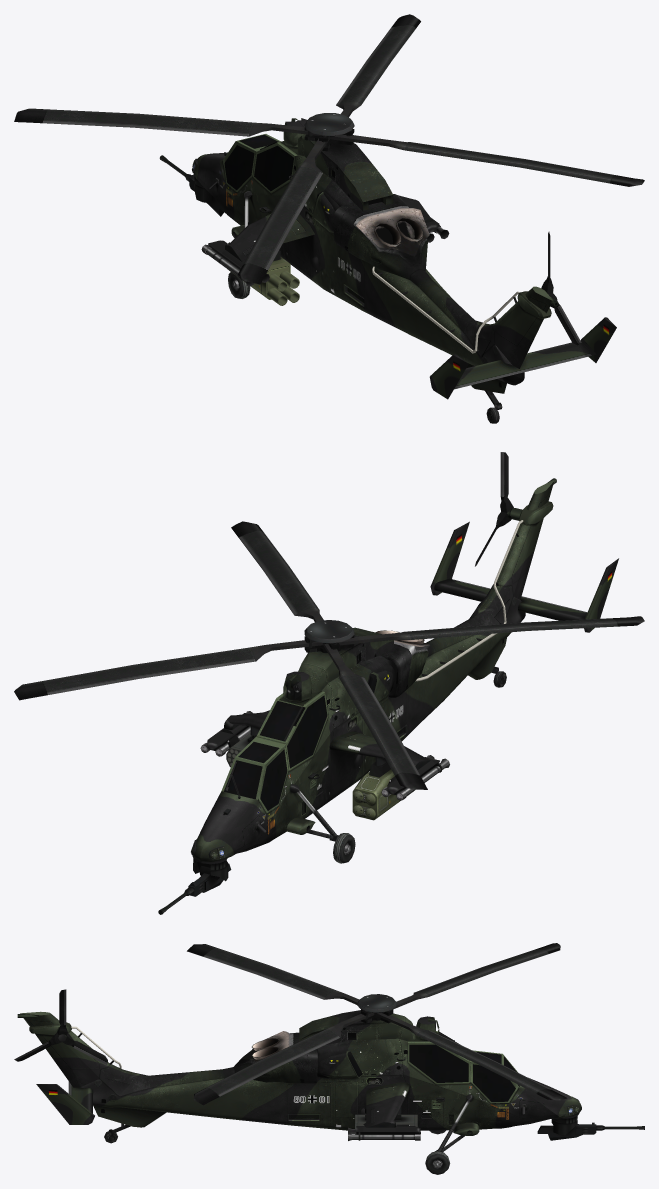
Rendered from Eurocopter tiger.fbx.
3 views of the same model, one above another, from view 1: azimuth 30°, elevation 25°; view 2: azimuth 150°, elevation 25°; view 3: azimuth 270°, elevation 25° (orthographic). The views are drawn at different scales.
Parts seen in each view (by area): view 1: EUROCOPTER TIGER, Blades, Turret; view 2: EUROCOPTER TIGER, Blades, Turret; view 3: EUROCOPTER TIGER, Blades, Turret.
Boxes of the visible parts, x1,y1,x2,y2 form: EUROCOPTER TIGER: (192,118,616,423); Blades: (14,14,644,284); Turret: (159,155,225,216); EUROCOPTER TIGER: (191,452,618,870); Blades: (14,521,644,789); Turret: (158,860,231,914); EUROCOPTER TIGER: (14,989,581,1174); Blades: (187,943,567,1105); Turret: (537,1116,644,1140).
Size of the model in its own units: 51318 by 25903 by 84955.
